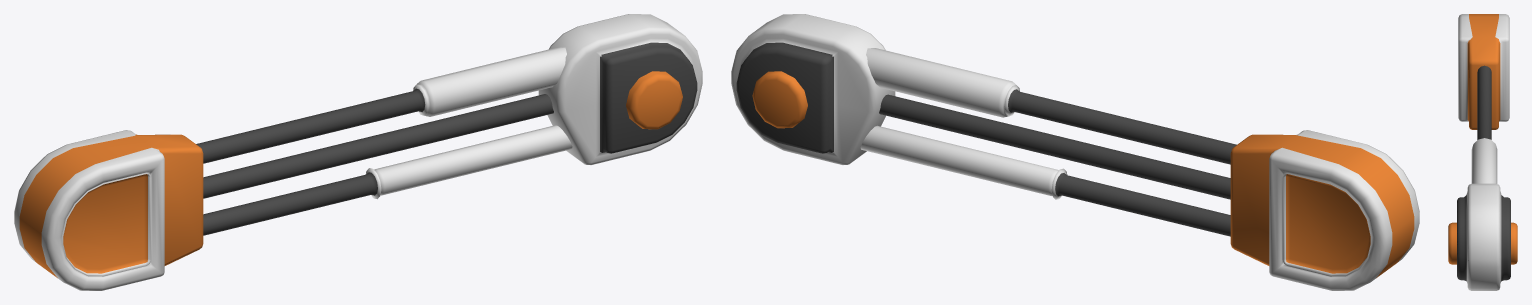
File: Robot_Leg_02.fbx
3 views of the same model, side by side, from view 1: azimuth 30°, elevation 25°; view 2: azimuth 150°, elevation 25°; view 3: azimuth 270°, elevation 25° (orthographic). The views are drawn at different scales.
Visible parts, largest first — view 1: Robot_Leg_02; view 2: Robot_Leg_02; view 3: Robot_Leg_02.
Boxes of the visible parts, <box> form: Robot_Leg_02: <box>14,14,702,290</box>; Robot_Leg_02: <box>731,14,1419,290</box>; Robot_Leg_02: <box>1448,14,1517,290</box>.
Size of the model in its own units: 2.74 by 0.4877 by 0.3638.
